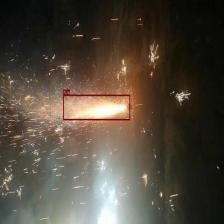fire: (63, 94, 130, 120)
